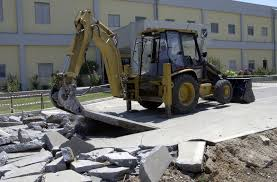excavator: (49, 10, 242, 118)
